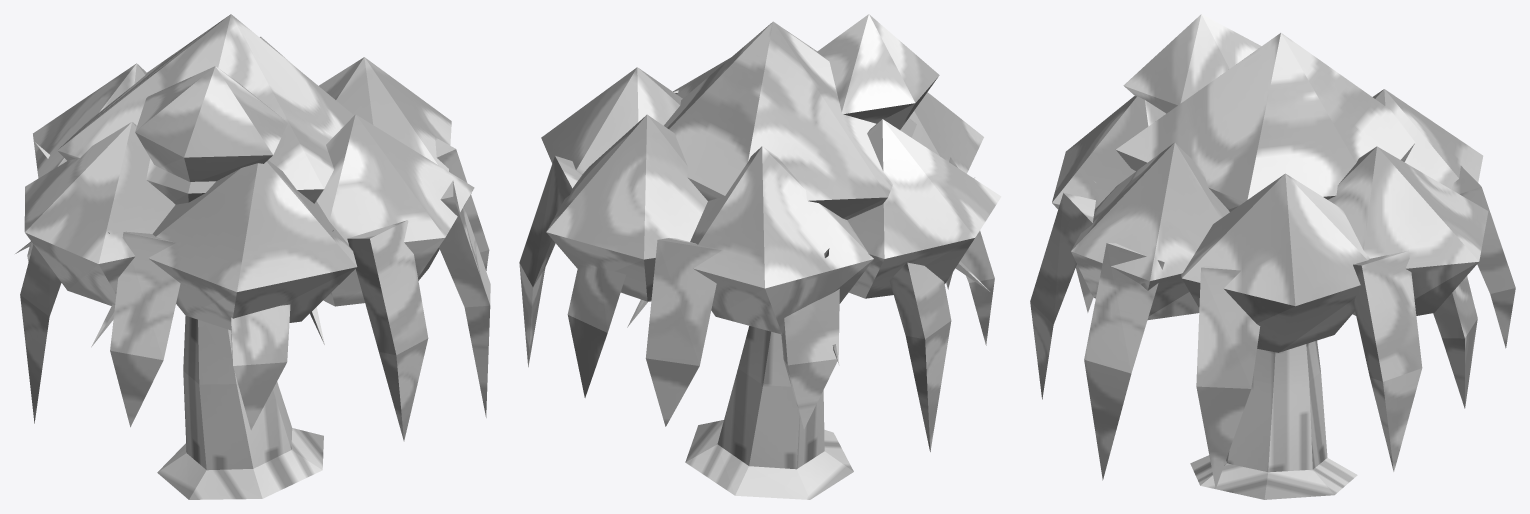
File: tree_willow_2.obj
The picture shows the model from 3 angles, left to right: view 1: azimuth 30°, elevation 25°; view 2: azimuth 150°, elevation 25°; view 3: azimuth 270°, elevation 25°; orthographic projection. The views are drawn at different scales.
Visible parts, largest first — view 1: tree_willow_2; view 2: tree_willow_2; view 3: tree_willow_2.
Part boxes in pixels (x1=…): tree_willow_2: x1=15, y1=14, x2=490, y2=499; tree_willow_2: x1=519, y1=14, x2=1001, y2=499; tree_willow_2: x1=1030, y1=14, x2=1515, y2=499.
Bounding box in the file's own units: 0.9639 × 0.9736 × 0.955.
